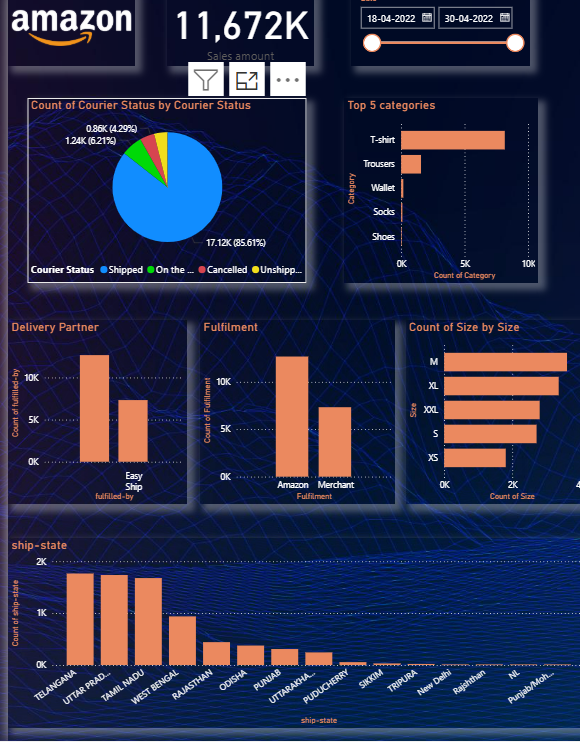

This screenshot's page, from the dashboard's own definition file:
{"tool":"powerbi","page":{"name":"Page 1","canvas":[816,1056],"ordinal":0},"visuals":[{"type":"image","box":[0,0,178.2,106.4],"z":0},{"type":"card","fields":{"Values":["Sum(Amazon Sale Report.Amount)"]},"box":[223.6,0,206.4,106.4],"z":1000},{"type":"slicer","fields":{"Values":["Amazon Sale Report.Date"]},"box":[483.6,0,250.9,106.4],"z":2000},{"type":"barChart","title":"Top 5 categories","fields":{"Y":["CountNonNull(Amazon Sale Report.Category)"],"Category":["Amazon Sale Report.Category"]},"box":[471.8,151.8,273.6,260],"z":3000},{"type":"pieChart","fields":{"Category":["Amazon Sale Report.Courier Status"],"Y":["CountNonNull(Amazon Sale Report.Courier Status)"]},"box":[27.3,151.8,392.7,260],"z":4000},{"type":"columnChart","title":"Delivery Partner","fields":{"Category":["Amazon Sale Report.fulfilled-by"],"Y":["CountNonNull(Amazon Sale Report.fulfilled-by)"]},"box":[0,463,252,259],"z":5000},{"type":"columnChart","title":" Fulfilment","fields":{"Category":["Amazon Sale Report.Fulfilment"],"Y":["CountNonNull(Amazon Sale Report.Fulfilment)"]},"box":[271,463,274,259],"z":6000},{"type":"clusteredBarChart","fields":{"Category":["Amazon Sale Report.Size"],"Y":["CountNonNull(Amazon Sale Report.Size)"]},"box":[558,463,258,259],"z":7000},{"type":"clusteredColumnChart","title":" ship-state","fields":{"Category":["Amazon Sale Report.ship-state"],"Y":["CountNonNull(Amazon Sale Report.ship-state)"]},"box":[0,769,816,267],"z":8000}]}

Visuals, with their boxes in screenshot pixels (x1, y1, x2, y2), scaled from the page's 816x1056 canvas onto the 580x742 screenshot:
image: (left=0, top=0, right=127, bottom=75)
card - Sum(Amazon Sale Report.Amount): (left=159, top=0, right=306, bottom=75)
slicer - Amazon Sale Report.Date: (left=344, top=0, right=522, bottom=75)
"Top 5 categories" barChart: (left=335, top=107, right=530, bottom=289)
pieChart - Amazon Sale Report.Courier Status x CountNonNull(Amazon Sale Report.Courier Status): (left=19, top=107, right=299, bottom=289)
"Delivery Partner" columnChart: (left=0, top=325, right=179, bottom=507)
" Fulfilment" columnChart: (left=193, top=325, right=387, bottom=507)
clusteredBarChart - Amazon Sale Report.Size x CountNonNull(Amazon Sale Report.Size): (left=397, top=325, right=579, bottom=507)
" ship-state" clusteredColumnChart: (left=0, top=540, right=579, bottom=728)
